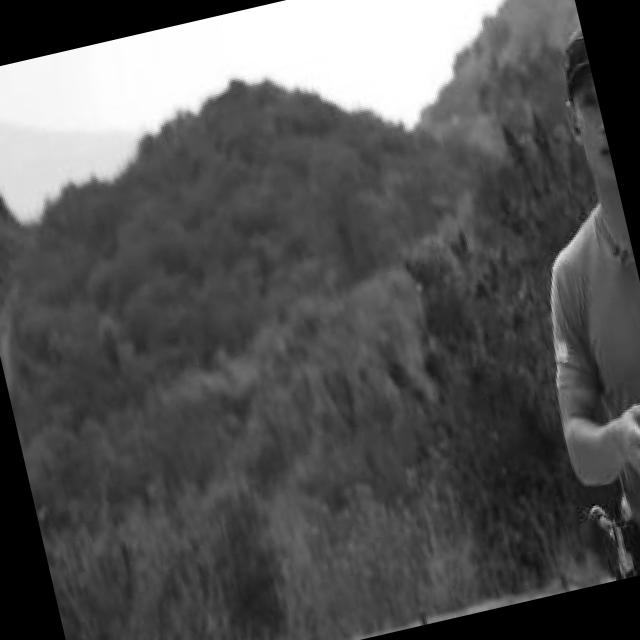Guns: (570, 481, 640, 586)
